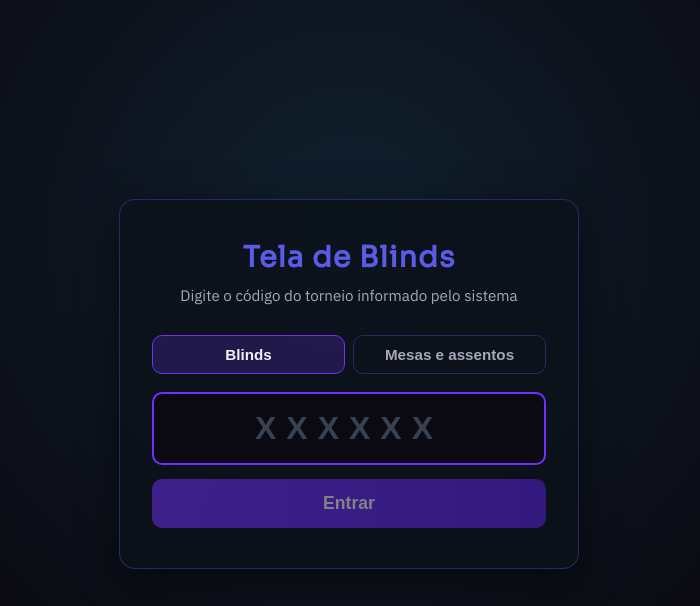
TVCode › sem dia nem torneio avisa em vez de navegar para lugar nenhum
The width and height of the screenshot is (700, 606).
In the field with placeholder "XXXXXX": (349, 428) [152,392,546,465], type "ABC234"
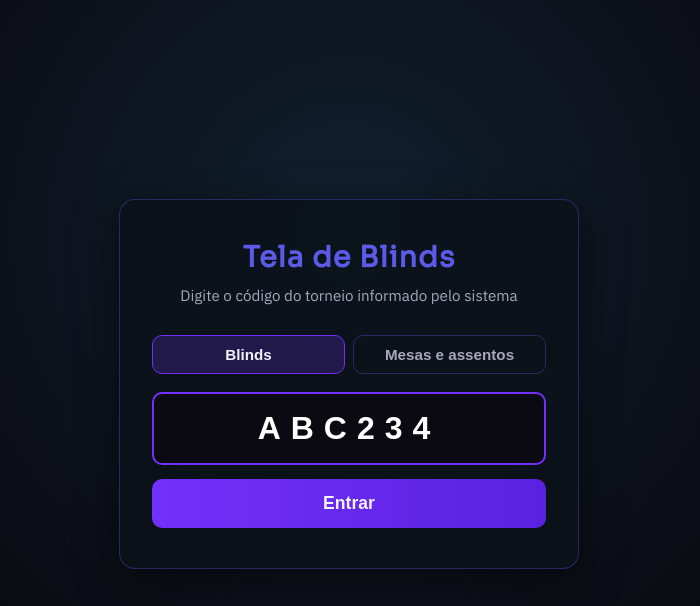
Click the button: (349, 503) [152,479,546,528]
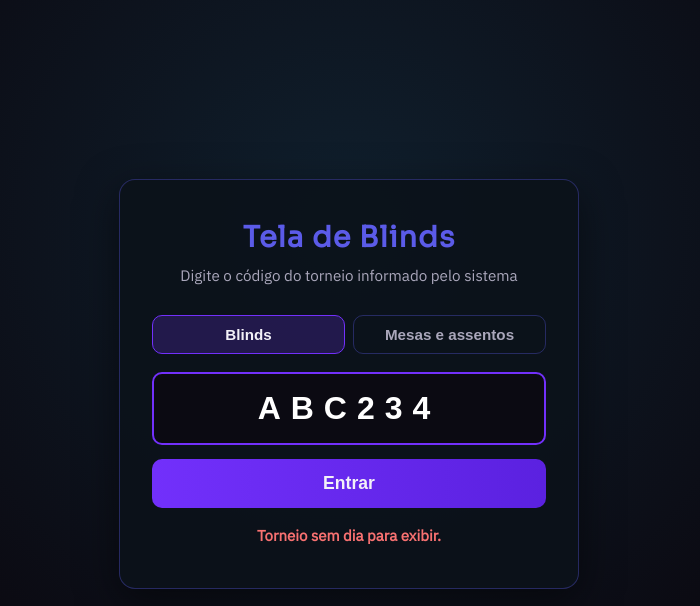
expect the text "Torneio sem dia para exibir." is shown: met, box [257,526,441,545]
